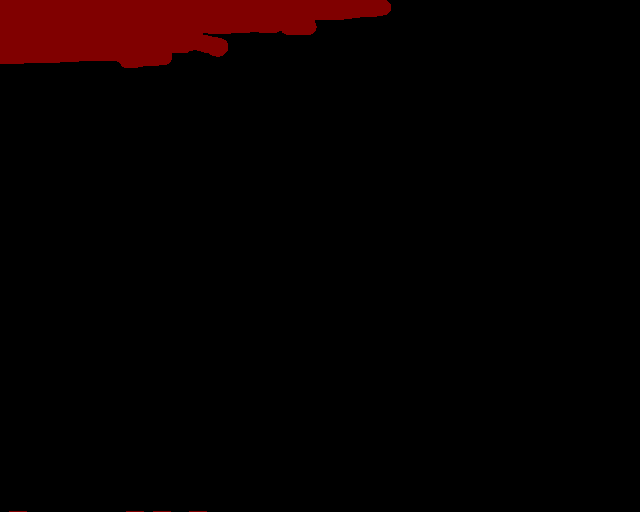Sky: (1, 1, 390, 511)
